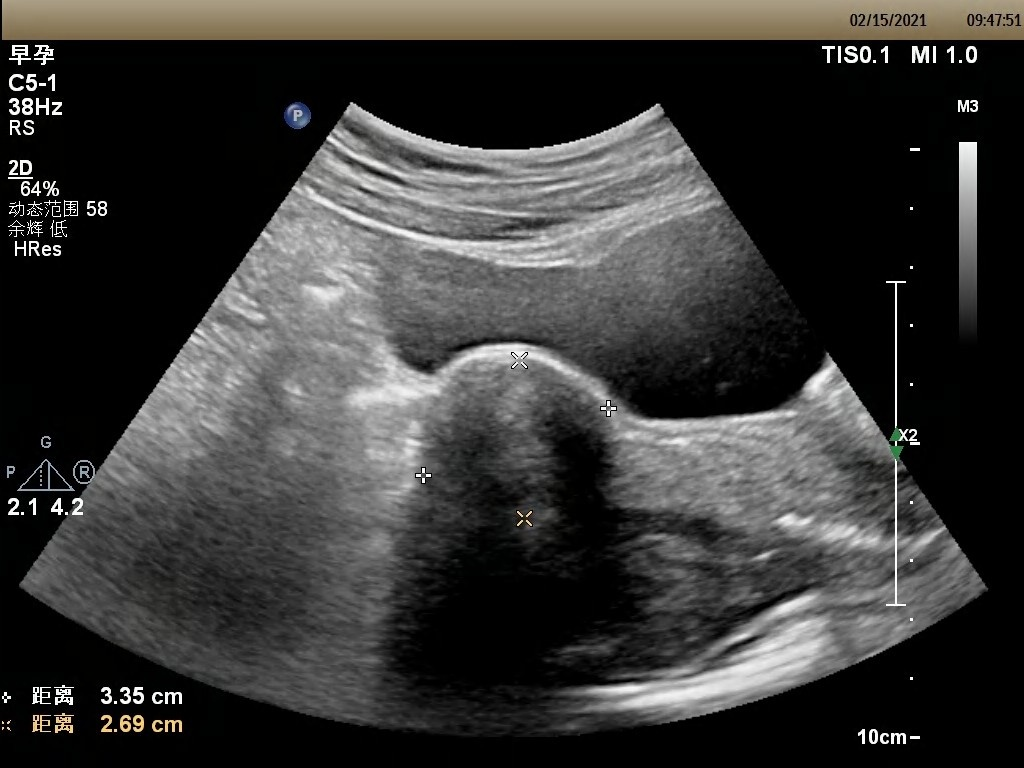肌瘤: (423, 361, 611, 516)
